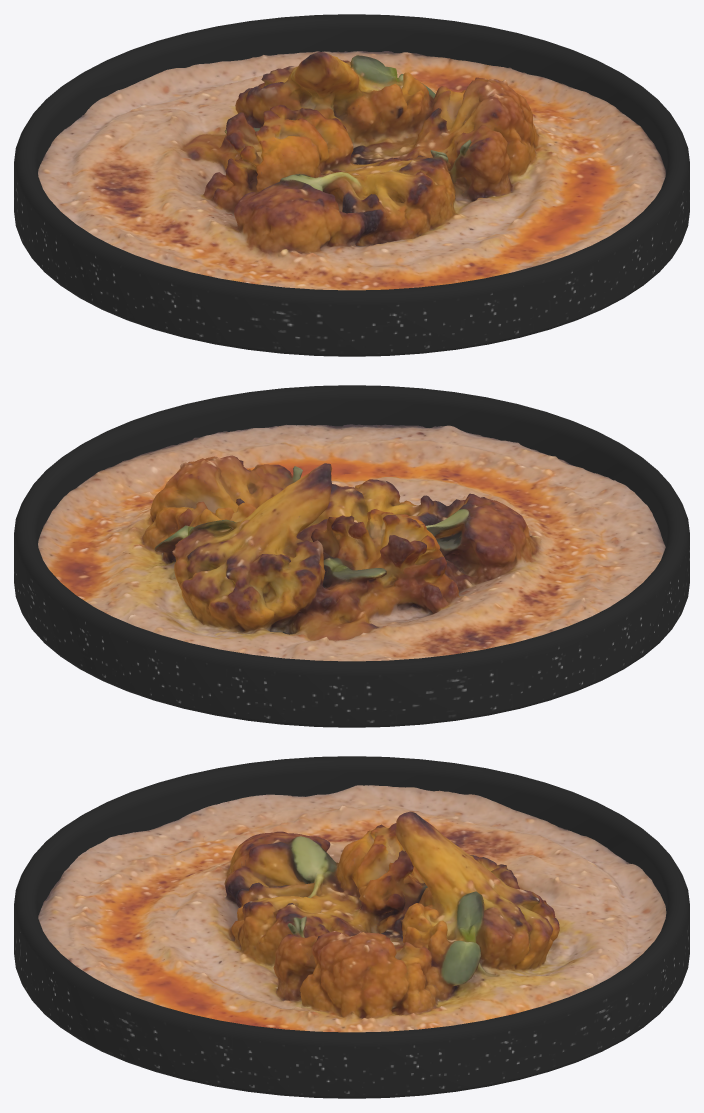
Rendered from Fool_Til_Posto.glb.
The picture shows the model from 3 angles, top to bottom: view 1: azimuth 30°, elevation 25°; view 2: azimuth 150°, elevation 25°; view 3: azimuth 270°, elevation 25°; orthographic projection.
Visible parts, largest first — view 1: default1, pCylinder1; view 2: default1, pCylinder1; view 3: default1, pCylinder1.
Boxes of the visible parts, bbox=[...] form: default1: bbox=[38, 51, 665, 290]; pCylinder1: bbox=[14, 14, 689, 356]; default1: bbox=[38, 424, 665, 661]; pCylinder1: bbox=[14, 385, 689, 727]; default1: bbox=[38, 785, 666, 1032]; pCylinder1: bbox=[14, 756, 689, 1098].
Bounding box in the file's own units: 0.2829 × 0.0664 × 0.2829.
Materials: 2 (2 with a texture image).
